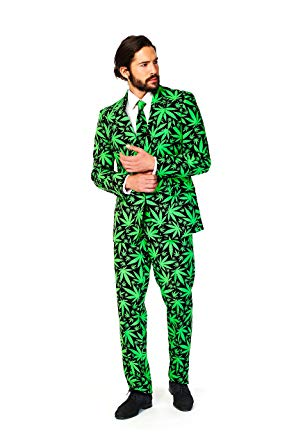feet: (104, 366, 203, 422)
